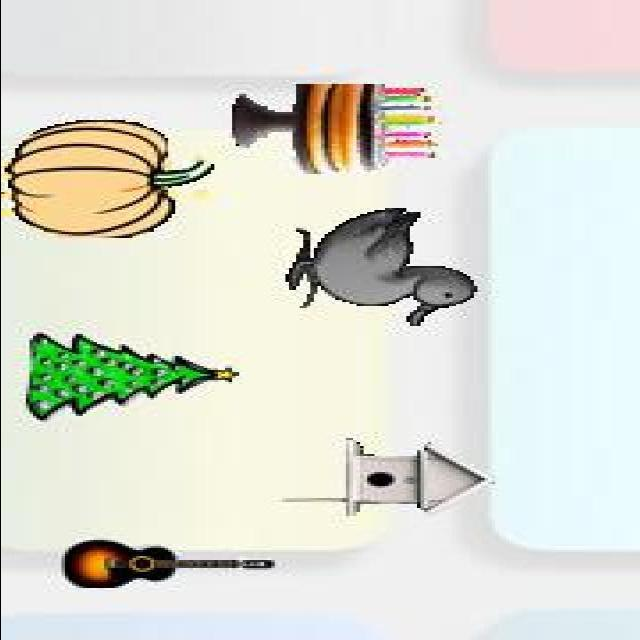Other Objects: (286, 208, 477, 326)
